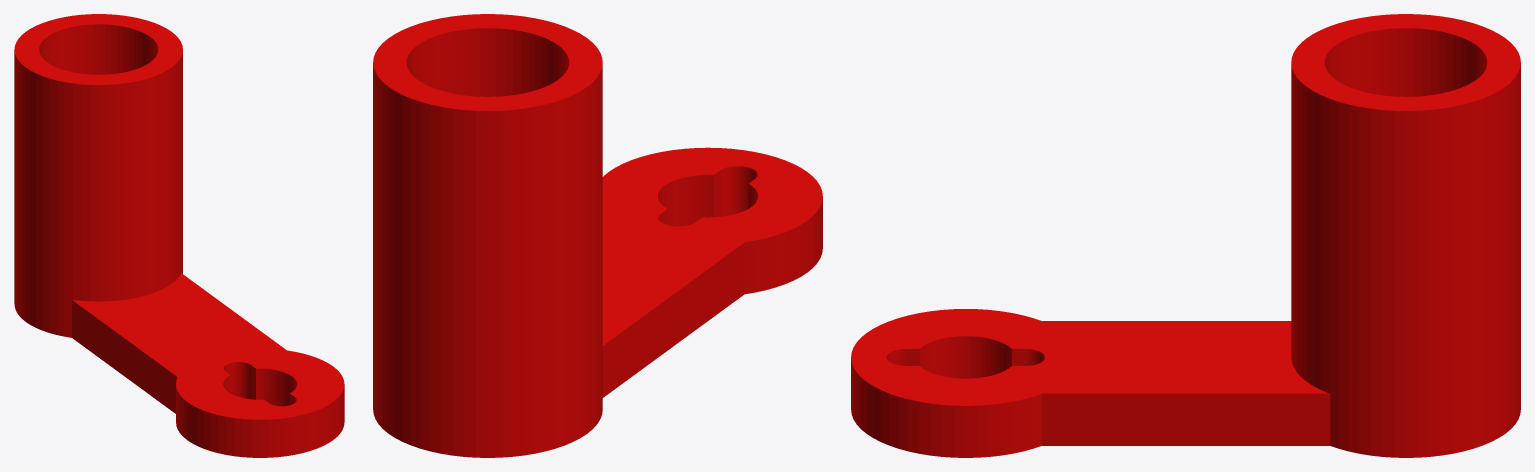
Rendered from inks_2_PCBWay Community.006.dae.
3 views of the same model, side by side, from view 1: azimuth 30°, elevation 25°; view 2: azimuth 150°, elevation 25°; view 3: azimuth 270°, elevation 25° (orthographic). The views are drawn at different scales.
Parts seen in each view (by area): view 1: tmp_export_inks_2_PCBWay Community.006; view 2: tmp_export_inks_2_PCBWay Community.006; view 3: tmp_export_inks_2_PCBWay Community.006.
Part boxes in pixels (x1,y1,x2,y2): tmp_export_inks_2_PCBWay Community.006: [14, 14, 344, 457]; tmp_export_inks_2_PCBWay Community.006: [373, 14, 822, 457]; tmp_export_inks_2_PCBWay Community.006: [851, 14, 1520, 457].
Size of the model in its own units: 0.012 by 0.035 by 0.02.
